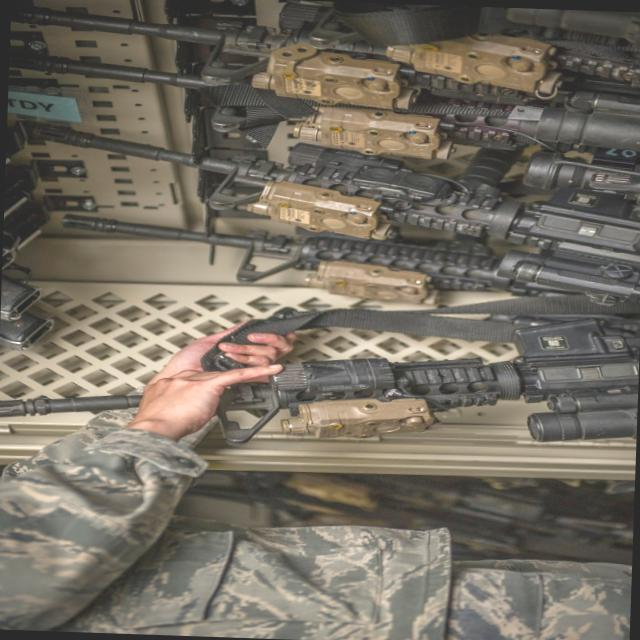long weapon: (16, 108, 640, 259), (13, 28, 640, 162), (1, 320, 617, 454), (49, 189, 628, 312), (27, 0, 640, 90)
